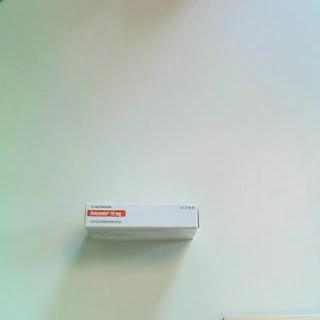dolcontin10mg: (83, 199, 201, 243)
